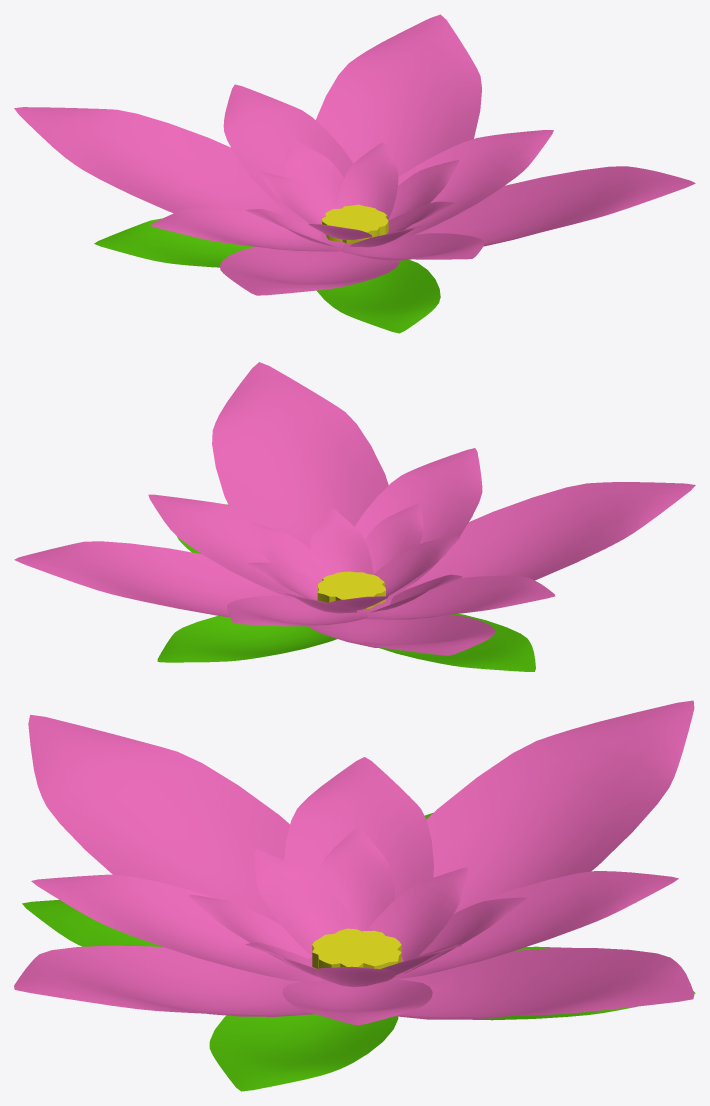
Rendered from lotus[1].fbx.
The picture shows the model from 3 angles, top to bottom: view 1: azimuth 30°, elevation 25°; view 2: azimuth 150°, elevation 25°; view 3: azimuth 270°, elevation 25°; orthographic projection. The views are drawn at different scales.
Visible parts, largest first — view 1: Plane.019, Plane, Cylinder; view 2: Plane.019, Plane, Cylinder; view 3: Plane.019, Plane, Cylinder.
Boxes of the visible parts, left/top/right/bottom form: Plane.019: left=14, top=14, right=695, bottom=295; Plane: left=94, top=218, right=440, bottom=333; Cylinder: left=322, top=204, right=388, bottom=243; Plane.019: left=14, top=362, right=695, bottom=655; Plane: left=157, top=504, right=535, bottom=671; Cylinder: left=317, top=571, right=385, bottom=609; Plane.019: left=14, top=700, right=694, bottom=1025; Plane: left=22, top=812, right=695, bottom=1091; Cylinder: left=312, top=928, right=401, bottom=968.
Size of the model in its own units: 589 by 141 by 580.
